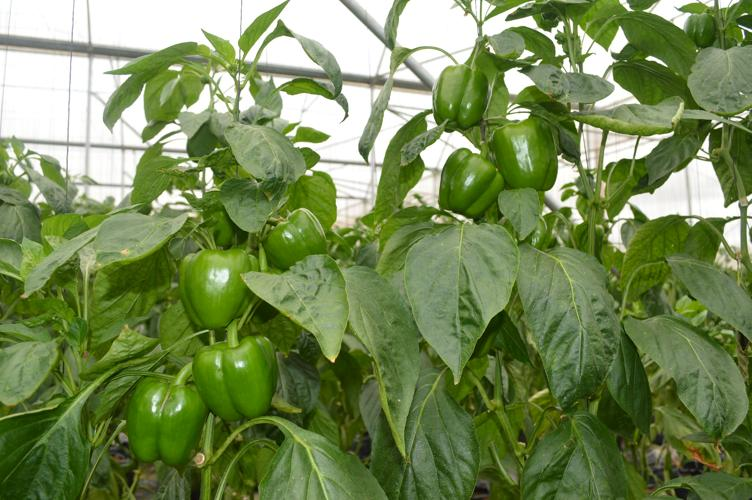BellPepper: (187, 333, 288, 427), (119, 369, 209, 471), (169, 244, 257, 334), (490, 115, 567, 199), (430, 140, 504, 219), (258, 194, 323, 278), (424, 60, 491, 138)
